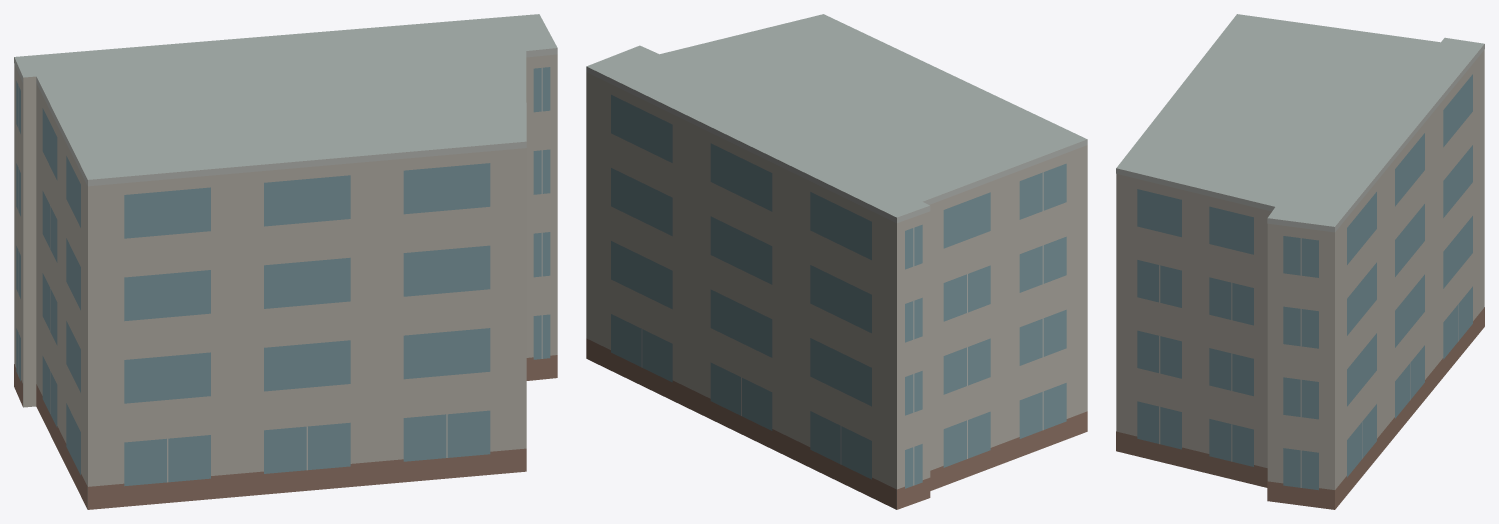
The model's file is survey-upis-32739809.glb.
3 renders of one model, left to right at view 1: azimuth 30°, elevation 25°; view 2: azimuth 150°, elevation 25°; view 3: azimuth 270°, elevation 25°, orthographic. The views are drawn at different scales.
Parts seen in each view (by area): view 1: survey-upis-32739809.tmp; view 2: survey-upis-32739809.tmp; view 3: survey-upis-32739809.tmp.
Part boxes in pixels (box(x1,y1,x2,y2)): survey-upis-32739809.tmp: box(14, 14, 557, 509); survey-upis-32739809.tmp: box(586, 14, 1087, 509); survey-upis-32739809.tmp: box(1116, 14, 1484, 509).
Size of the model in its own units: 20.18 by 12.5 by 14.76.
